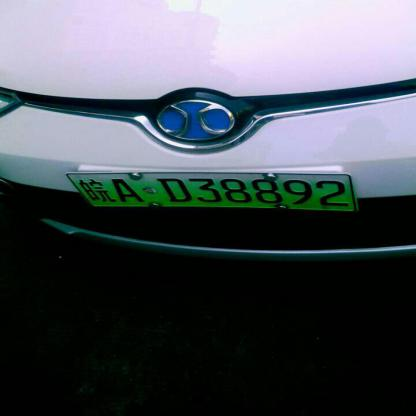lp: (64, 173, 357, 210)
